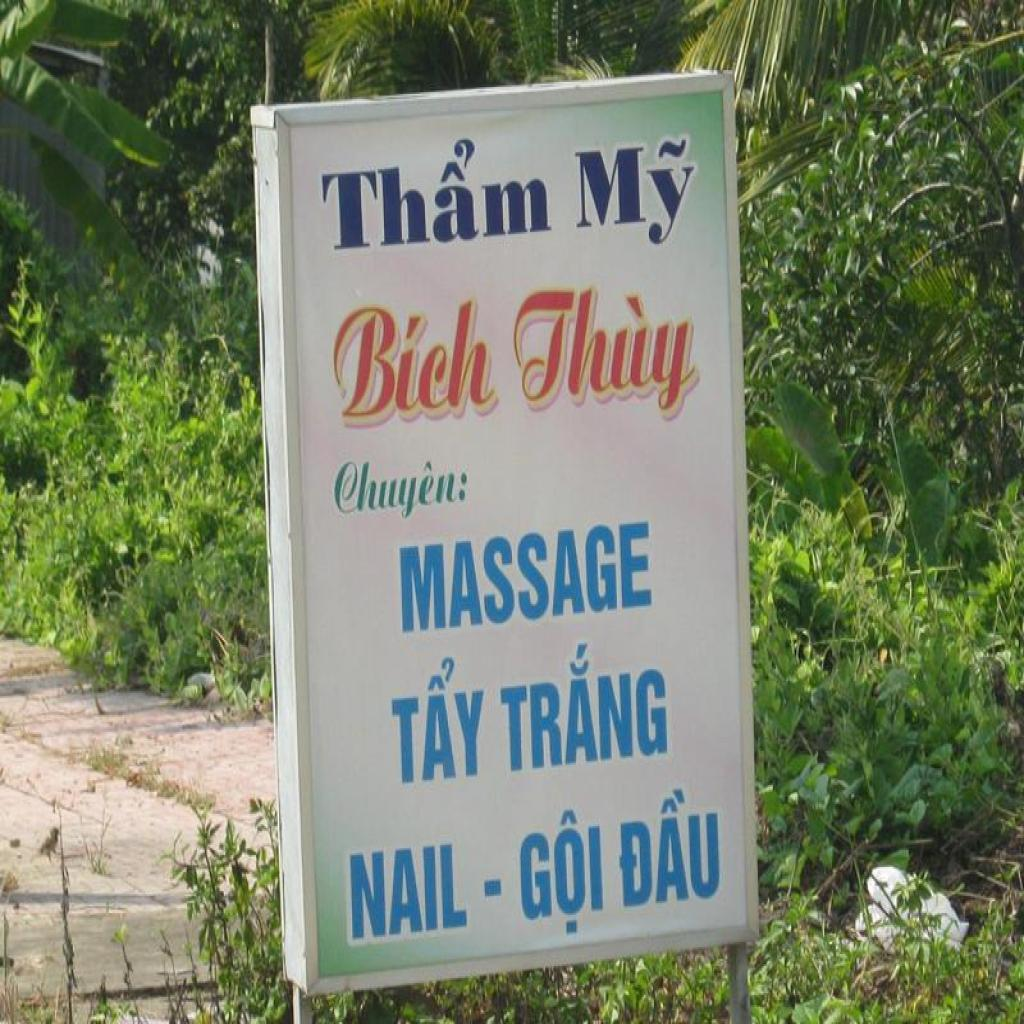text: (316, 123, 561, 263), (395, 516, 658, 636), (510, 278, 712, 428), (494, 635, 672, 776), (332, 288, 506, 422), (573, 126, 704, 256), (507, 806, 612, 950), (387, 648, 490, 788), (346, 836, 471, 951), (334, 450, 472, 528), (478, 874, 504, 903)
